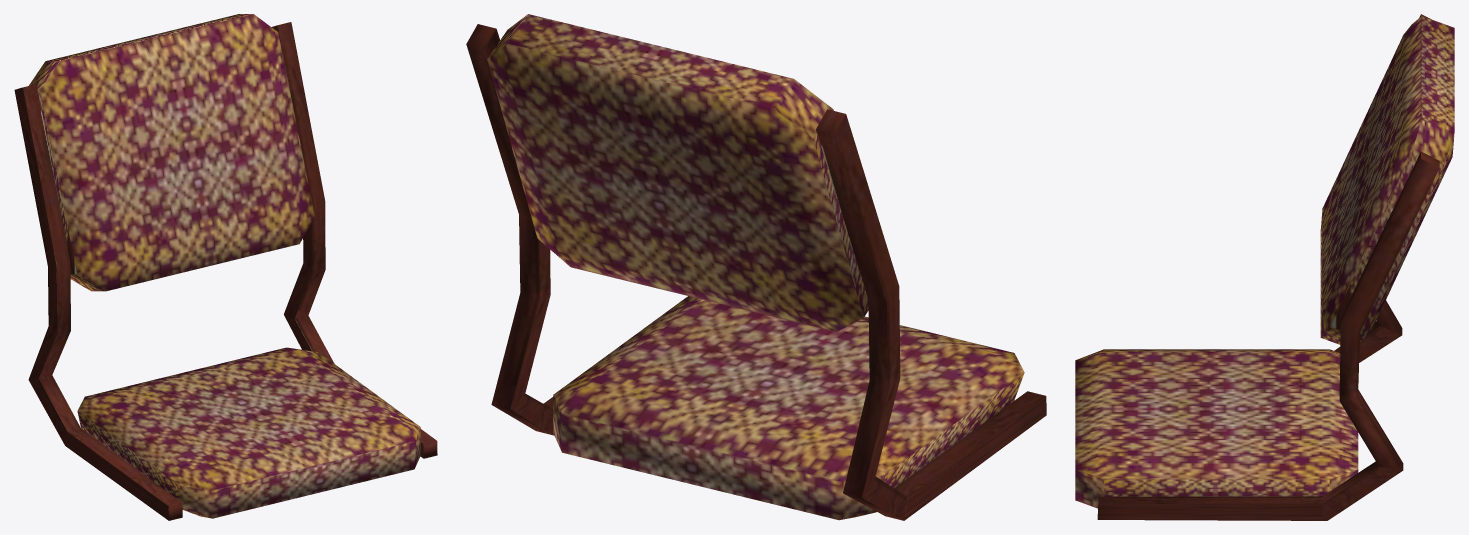
File: it_leg_less_chair.fbx
3 views of the same model, side by side, from view 1: azimuth 30°, elevation 25°; view 2: azimuth 150°, elevation 25°; view 3: azimuth 270°, elevation 25° (orthographic). The views are drawn at different scales.
Visible parts, largest first — view 1: mesh_0; view 2: mesh_0; view 3: mesh_0.
Part boxes in pixels (box(x1,y1,x2,y2)): mesh_0: box(14, 14, 437, 520); mesh_0: box(466, 14, 1046, 520); mesh_0: box(1075, 14, 1454, 520).
Bounding box in the file's own units: 59.17 × 72.66 × 64.74.
Materials: 1 (1 with a texture image).
